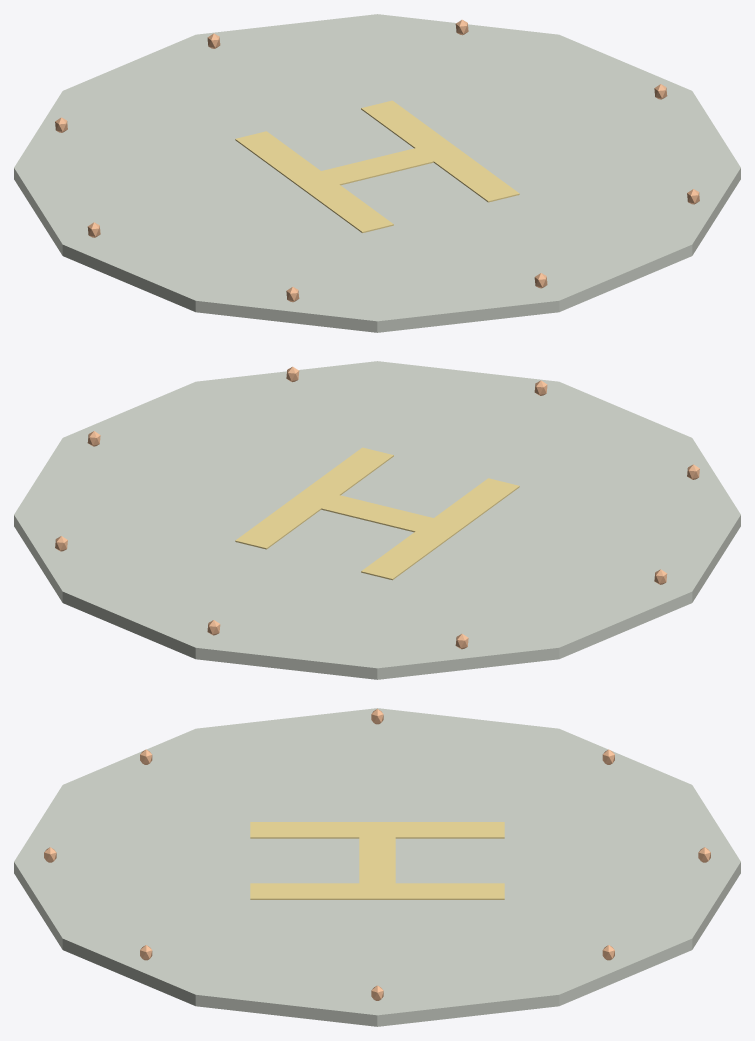
The model's file is helipad.glb.
3 renders of one model, top to bottom at view 1: azimuth 30°, elevation 25°; view 2: azimuth 150°, elevation 25°; view 3: azimuth 270°, elevation 25°, orthographic.
Visible parts, largest first — view 1: helipad__landing_pad, helipad__H_sides, helipad__H_sides.001, helipad__H_crossbar; view 2: helipad__landing_pad, helipad__H_sides, helipad__H_sides.001, helipad__H_crossbar; view 3: helipad__landing_pad, helipad__H_sides.001, helipad__H_sides, helipad__H_crossbar.
Part boxes in pixels (x1=…): helipad__landing_pad: x1=14, y1=14, x2=740, y2=332; helipad__H_sides: x1=235, y1=131, x2=393, y2=233; helipad__H_sides.001: x1=361, y1=100, x2=519, y2=202; helipad__H_crossbar: x1=306, y1=147, x2=434, y2=187; helipad__landing_pad: x1=14, y1=361, x2=740, y2=679; helipad__H_sides: x1=361, y1=478, x2=519, y2=580; helipad__H_sides.001: x1=235, y1=447, x2=393, y2=549; helipad__H_crossbar: x1=306, y1=491, x2=433, y2=532; helipad__landing_pad: x1=14, y1=708, x2=740, y2=1026; helipad__H_sides.001: x1=250, y1=883, x2=504, y2=899; helipad__H_sides: x1=250, y1=822, x2=504, y2=838; helipad__H_crossbar: x1=359, y1=829, x2=395, y2=887.
Size of the model in its own units: 20 by 0.795 by 20.
